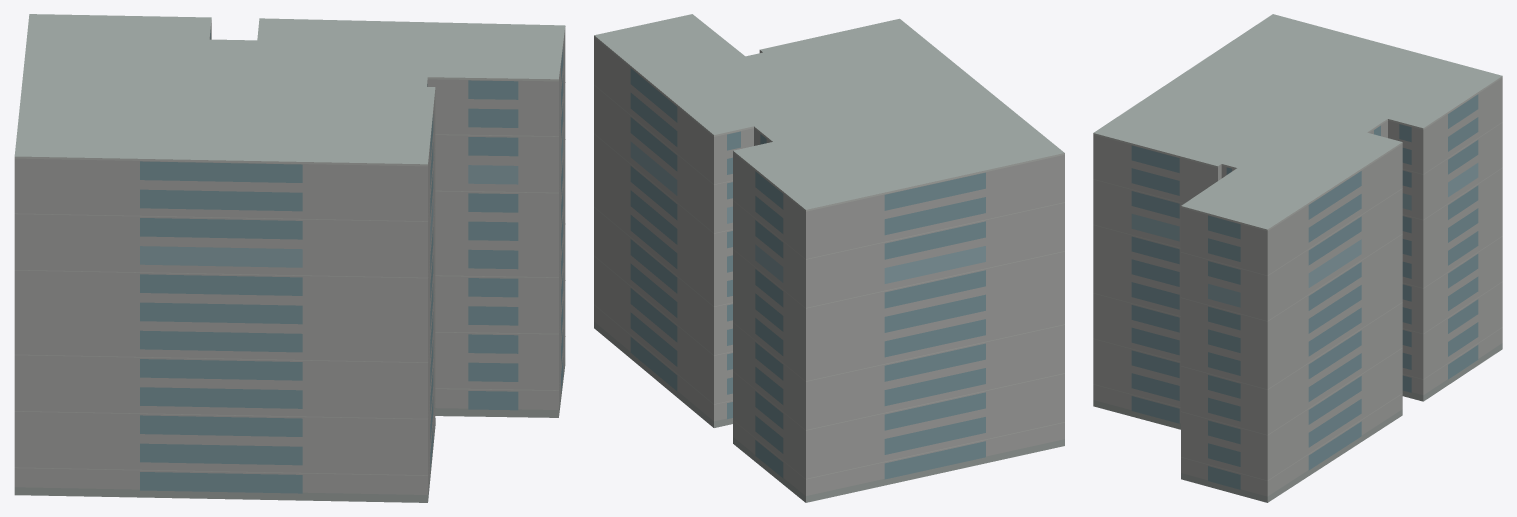
The model's file is survey-upis-32994818.glb.
The picture shows the model from 3 angles, left to right: view 1: azimuth 30°, elevation 25°; view 2: azimuth 150°, elevation 25°; view 3: azimuth 270°, elevation 25°; orthographic projection. The views are drawn at different scales.
Visible parts, largest first — view 1: survey-upis-32994818.tmp; view 2: survey-upis-32994818.tmp; view 3: survey-upis-32994818.tmp.
Boxes of the visible parts, x1,y1,x2,y2 form: survey-upis-32994818.tmp: (14, 14, 565, 502); survey-upis-32994818.tmp: (594, 14, 1064, 502); survey-upis-32994818.tmp: (1093, 14, 1502, 502).
Bounding box in the file's own units: 66.16 × 39.1 × 53.11.
